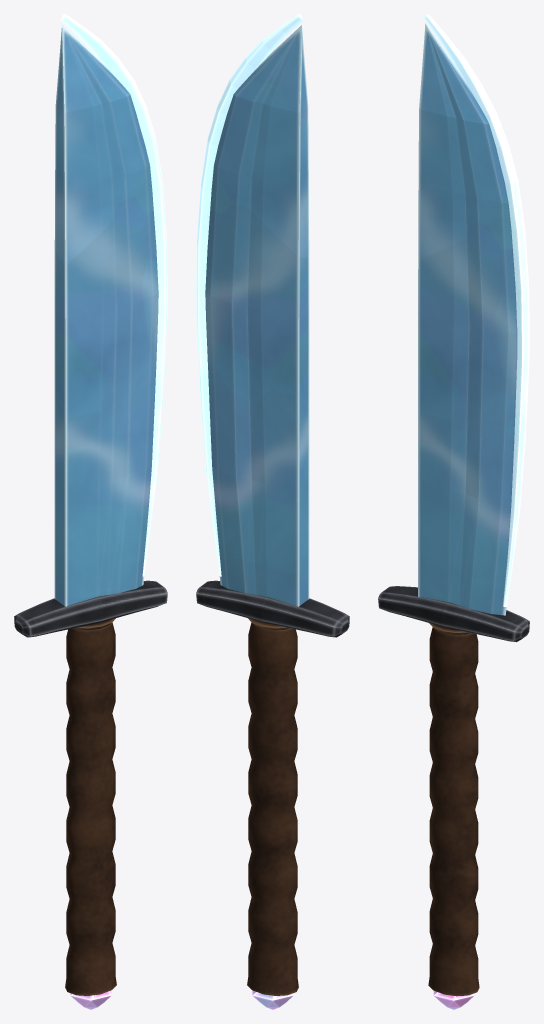
File: crystal-weapon-knife.glb
3 renders of one model, left to right at view 1: azimuth 30°, elevation 25°; view 2: azimuth 150°, elevation 25°; view 3: azimuth 330°, elevation 25°, orthographic.
Parts seen in each view (by area): view 1: blade, grip, tip, guard, inlay; view 2: blade, grip, tip, guard, inlay; view 3: blade, grip, tip, guard, inlay.
Boxes of the visible parts, x1,y1,x2,y2 form: blade: (54,25,158,606); grip: (65,618,116,995); tip: (60,14,167,576); guard: (14,580,167,637); inlay: (70,990,111,1009); blade: (205,25,309,606); grip: (247,618,298,995); tip: (196,14,303,576); guard: (196,580,349,637); inlay: (252,990,293,1009); blade: (418,23,517,615); grip: (428,623,479,996); tip: (424,14,529,606); guard: (378,586,529,642); inlay: (433,991,474,1009).
Bounding box in the file's own units: 0.1447 × 0.9273 × 0.036.
Materials: 5 (5 with a texture image).
